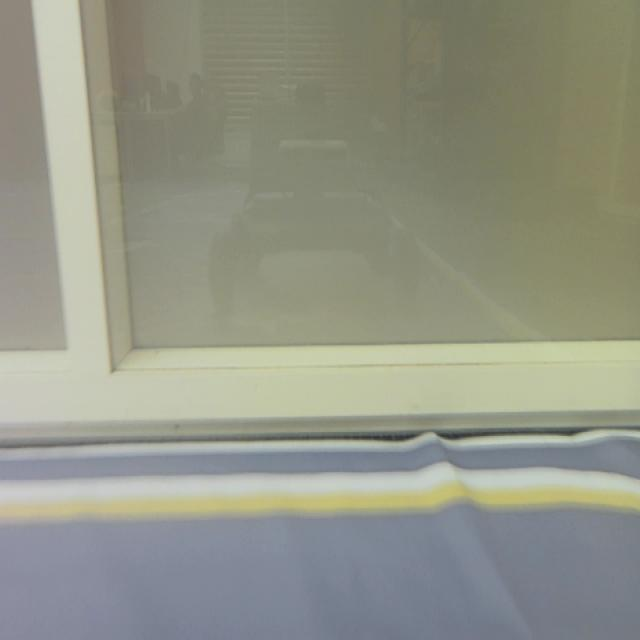right_lane: (1, 484, 623, 523)
